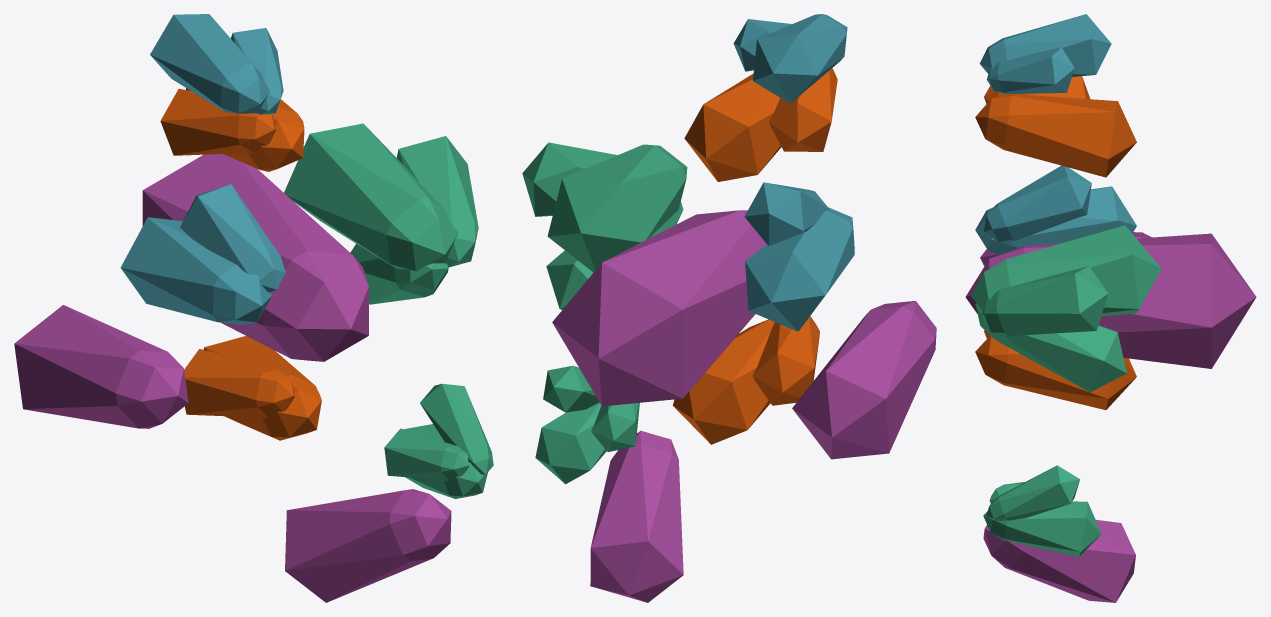
File: Building_Crystals.fbx
3 views of the same model, side by side, from view 1: azimuth 30°, elevation 25°; view 2: azimuth 150°, elevation 25°; view 3: azimuth 270°, elevation 25° (orthographic). The views are drawn at different scales.
Parts seen in each view (by area): view 1: Building_Crystals; view 2: Building_Crystals; view 3: Building_Crystals.
Part boxes in pixels (box(x1,y1,x2,y2)): Building_Crystals: box(14, 14, 493, 602); Building_Crystals: box(522, 14, 936, 602); Building_Crystals: box(965, 14, 1256, 602).
Bounding box in the file's own units: 1.06 × 1.53 × 0.7706.
